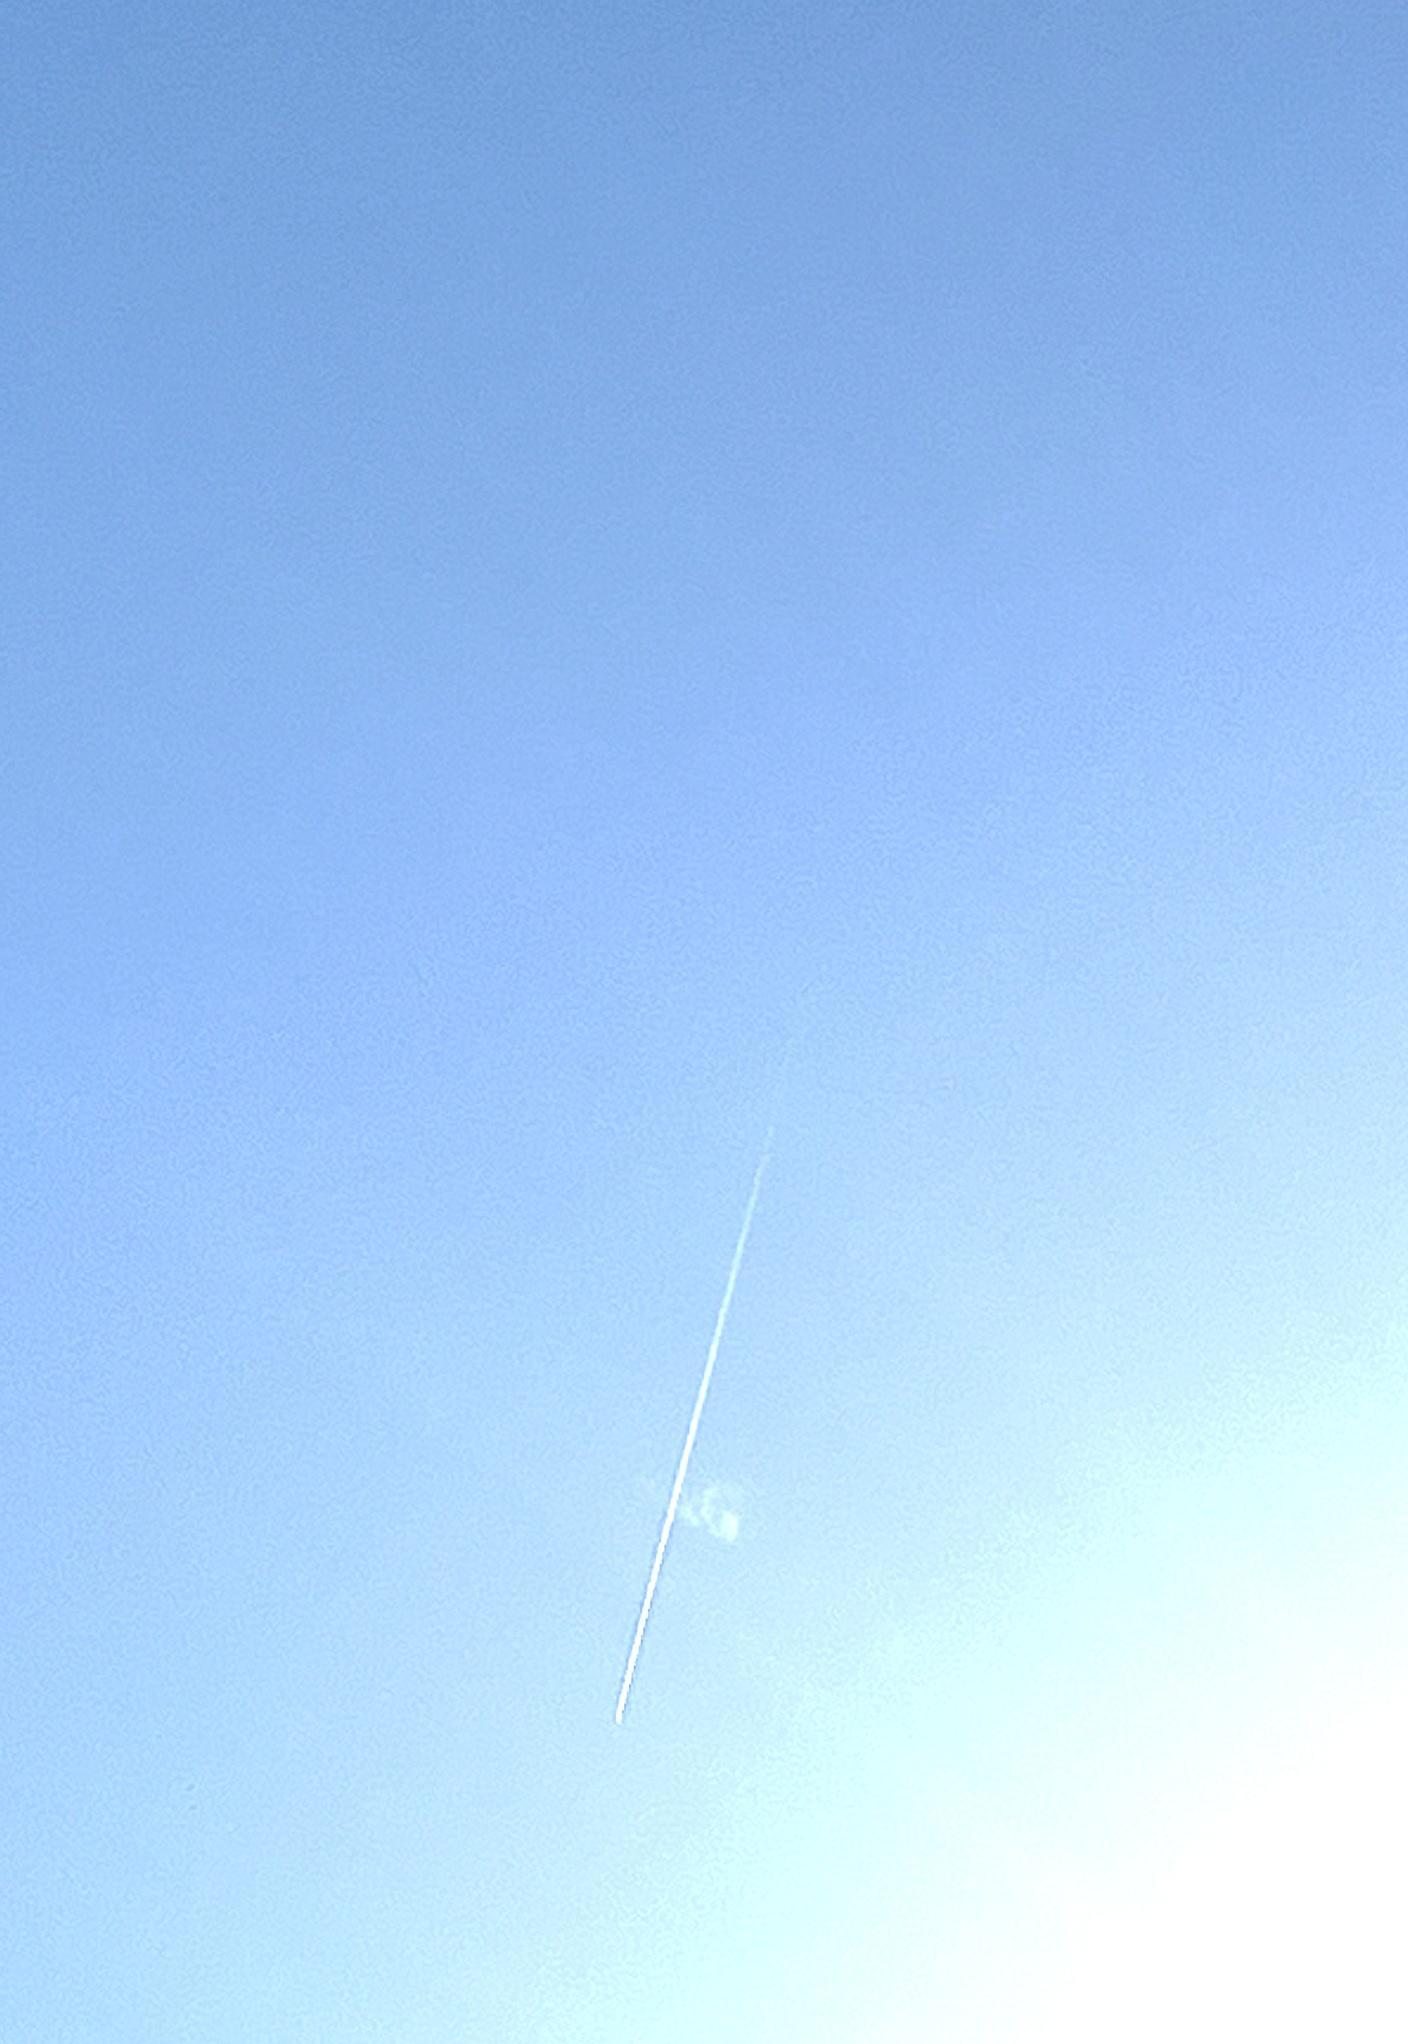Plane: (543, 1121, 824, 1744)
